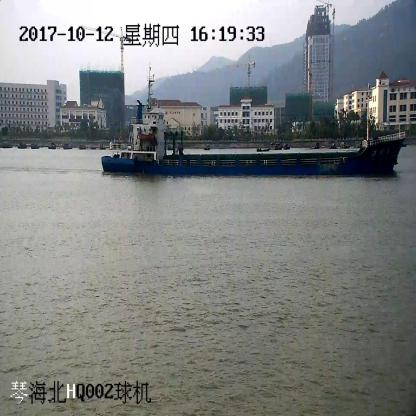Bulk Carrier: (101, 72, 405, 176)
